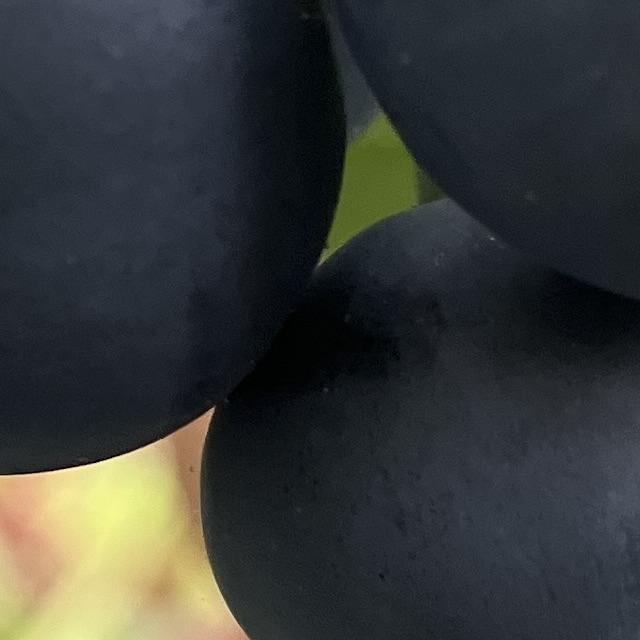Blueberries: (0, 0, 358, 482), (319, 0, 640, 308)
